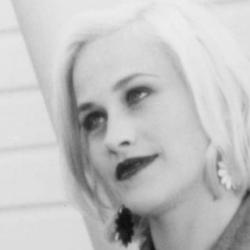face: (51, 3, 249, 218)
